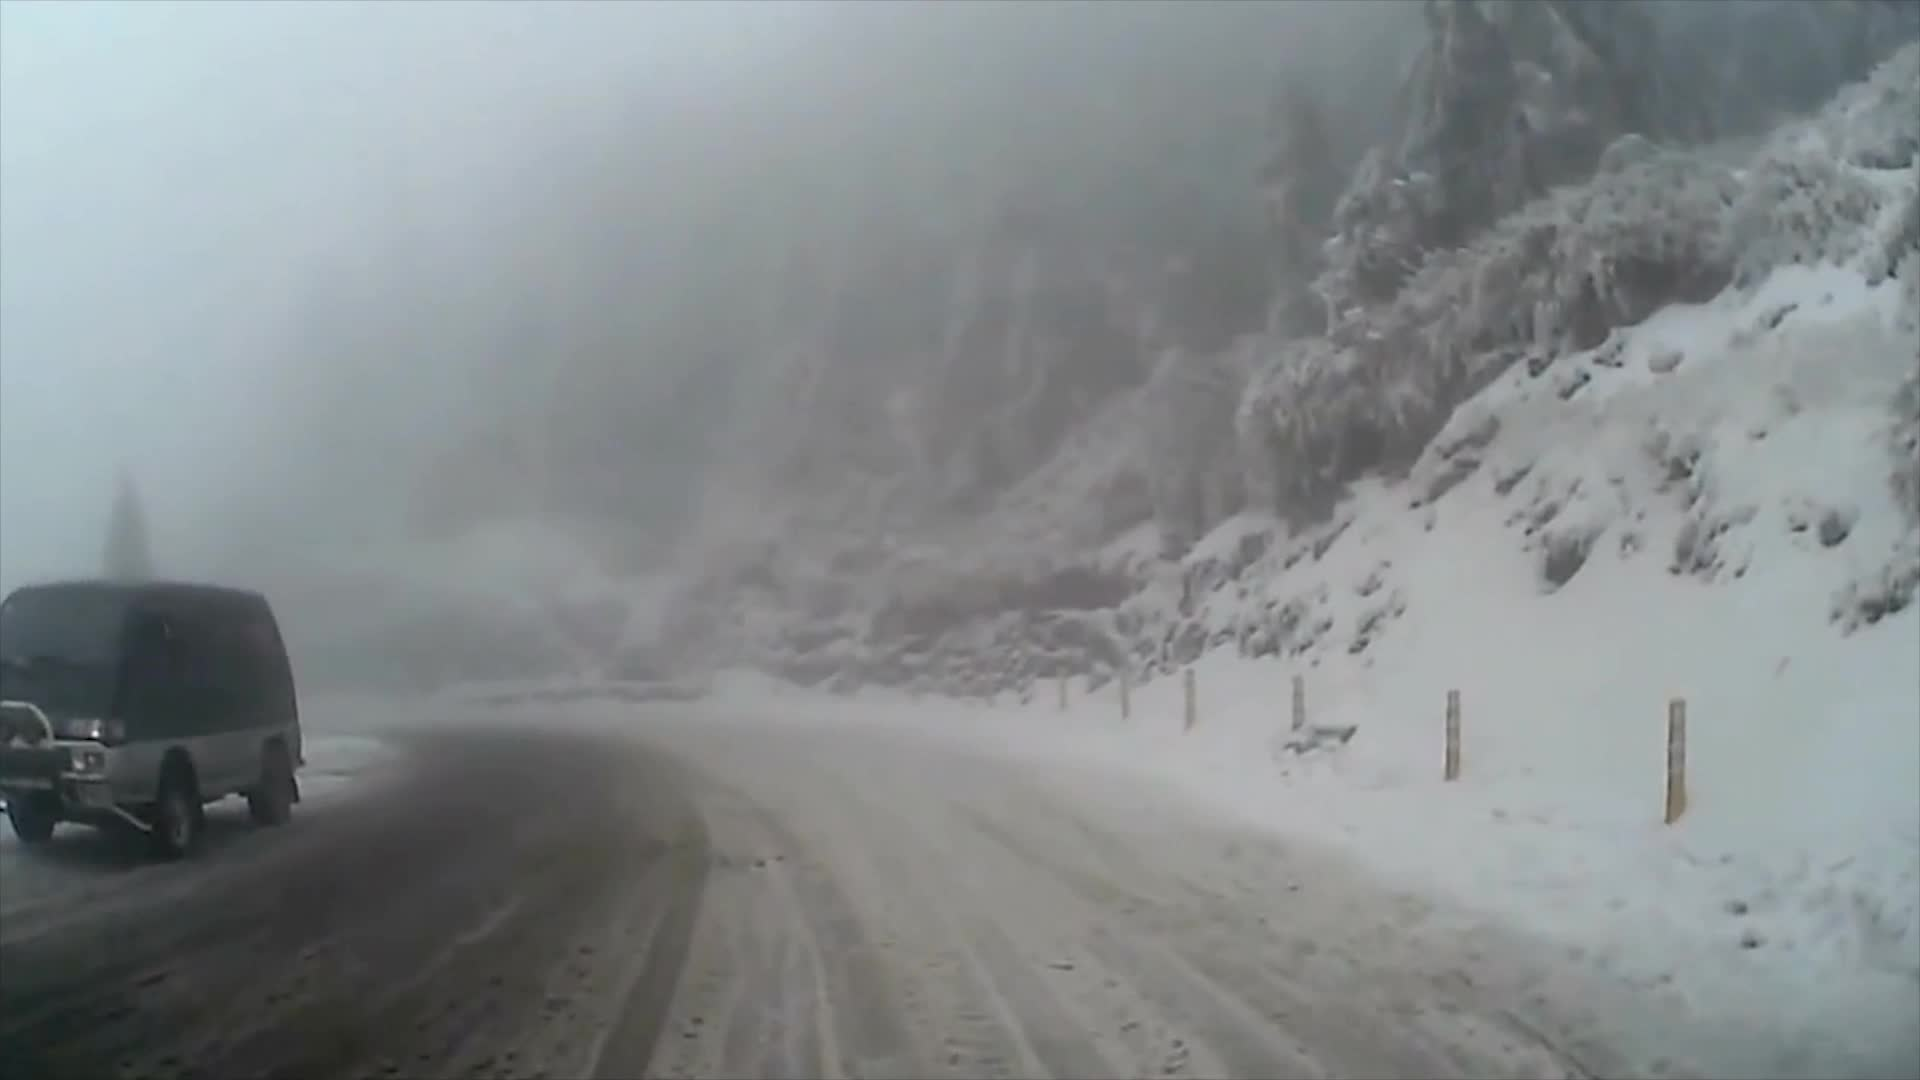vehicle: (0, 579, 307, 862)
